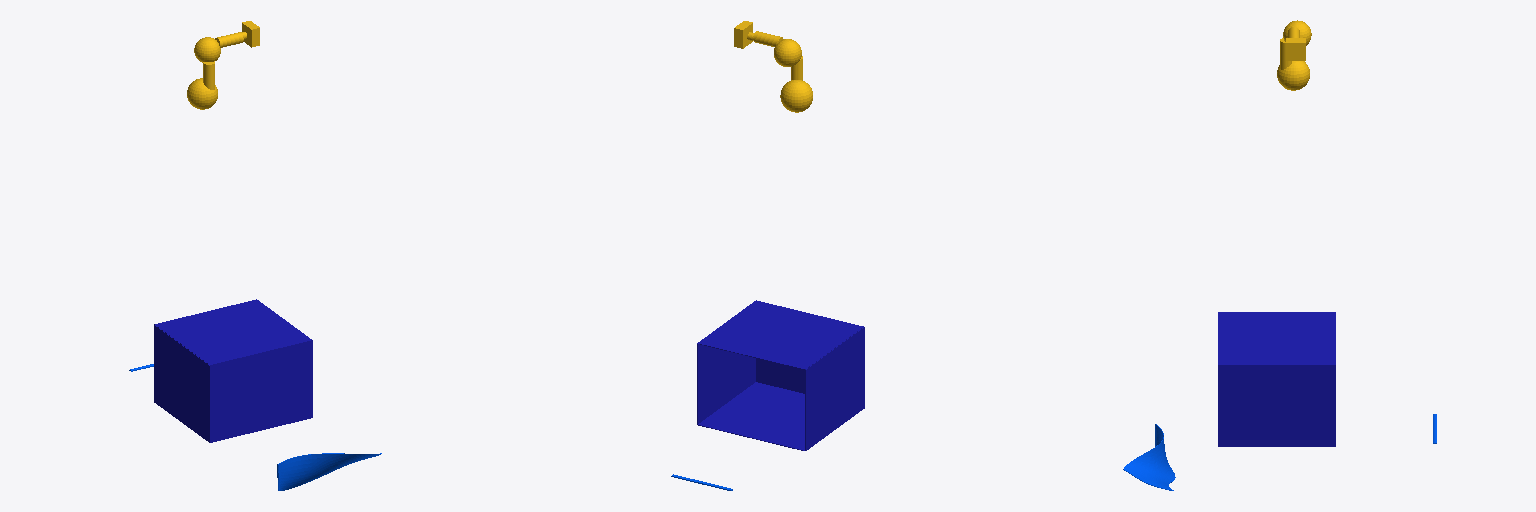
URDF robot description (fanuc_cell):
<?xml version="1.0" encoding="utf-8"?>
<!-- =================================================================================== -->
<!-- |    This document was autogenerated by xacro from ur5_robot.urdf.xacro           | -->
<!-- |    EDITING THIS FILE BY HAND IS NOT RECOMMENDED                                 | -->
<!-- =================================================================================== -->
<robot name="fanuc_cell">
  <!--robots pose-->
  <link name="world"/>
  
  <joint name="FANUC_m10ia_pose" type="fixed">
    <parent link="world"/>
    <child link="FANUC_m10ia_base_link"/>
    <origin rpy="0.0 0.0 0.0" xyz="0 0.0 5.0"/><!--ABB_1200_5_90 pedestal-->
  </joint>
  
  <joint name="FANUC_lrmate200id_pose" type="fixed">
    <parent link="world"/>
    <child link="FANUC_lrmate200id_base_link"/>
    <origin rpy="0.0 0.0 0.0" xyz="0 -5.0 5.0"/><!--ABB_1200_5_90 pedestal-->
  </joint>

  <joint name="curve_1_pose" type="fixed">
    <parent link="world"/>
    <child link="curve_1_base_link"/>
    <origin rpy="0.0 0.0 0.0" xyz="0 2.0 0.0"/><!--ABB_1200_5_90 pedestal-->
  </joint>
  <joint name="curve_2_pose" type="fixed">
    <parent link="world"/>
    <child link="curve_2_base_link"/>
    <origin rpy="0.0 0.0 0.0" xyz="0 -2.0 0.0"/><!--ABB_1200_5_90 pedestal-->
  </joint>


  <!--curve_1 part-->
  <link name="curve_1_base_link">
    <collision>
      <geometry>
        <mesh filename="model://curve_1/meshes/wood.stl" scale="0.001 0.001 0.001"/>
      </geometry>
    </collision>
    <visual name="visual">
      <geometry>
        <mesh filename="model://curve_1/meshes/wood.stl" scale="0.001 0.001 0.001"/>
      </geometry>
      <material name="orange">
        <color rgba=".04 .42 1 1"/>
      </material>
    </visual>
    <inertial>
      <origin rpy="0 0 0" xyz="0 0 .107 "/>
      <mass value="254.138"/>
      <inertia ixx="9.459" ixy="-.018" ixz="-.297" iyy="9.18" iyz=".003" izz="16.946"/>
    </inertial>
  </link>

  <!--curve_2 part-->
  <link name="curve_2_base_link">
    <collision>
      <geometry>
        <mesh filename="model://curve_2/meshes/generic_fan_blade.stl" scale="0.001 0.001 0.001"/>
      </geometry>
    </collision>
    <visual name="visual">
      <geometry>
        <mesh filename="model://curve_2/meshes/generic_fan_blade.stl" scale="0.001 0.001 0.001"/>
      </geometry>
      <material name="orange">
        <color rgba=".04 .42 1 1"/>
      </material>
    </visual>
    <inertial>
      <origin rpy="0 0 0" xyz="0 0 .107 "/>
      <mass value="254.138"/>
      <inertia ixx="9.459" ixy="-.018" ixz="-.297" iyy="9.18" iyz=".003" izz="16.946"/>
    </inertial>
  </link>

  <link name="Wall1">
    <visual>
      <geometry>
        <box size="0.01 1.7 1.3"/>
      </geometry>
      <material name="">
        <color rgba="0.1490196078431373 0.14901960784313725 0.72941176470588237 0.1"/>
      </material>
    </visual>
    <collision>
      <geometry>
        <box size="0.01 1.7 1.3"/>
      </geometry>
    </collision>
  </link>
  <joint name="Wall1_pose" type="fixed">
    <parent link="world"/>
    <child link="Wall1"/>
    <origin rpy="0.0 0.0 0" xyz="-0.405 -0.27 0.8"/>
  </joint>

  <link name="Wall2">
    <visual>
      <geometry>
        <box size="1.8 0.01 1.3"/>
      </geometry>
      <material name="">
        <color rgba="0.1490196078431373 0.14901960784313725 0.72941176470588237 0.1"/>
      </material>
    </visual>
    <collision>
      <geometry>
        <box size="1.8 0.01 1.3"/>
      </geometry>
    </collision>
  </link>
  <joint name="Wall2_pose" type="fixed">
    <parent link="world"/>
    <child link="Wall2"/>
    <origin rpy="0.0 0.0 0" xyz="0.5 -1.115 0.8"/>
  </joint>

  <link name="Wall3">
    <visual>
      <geometry>
        <box size="0.01 1.7 1.3"/>
      </geometry>
      <material name="">
        <color rgba="0.1490196078431373 0.14901960784313725 0.72941176470588237 0.1"/>
      </material>
    </visual>
    <collision>
      <geometry>
        <box size="0.01 1.7 1.3"/>
      </geometry>
    </collision>
  </link>
  <joint name="Wall3_pose" type="fixed">
    <parent link="world"/>
    <child link="Wall3"/>
    <origin rpy="0.0 0.0 0" xyz="1.405 -0.27 0.8"/>
  </joint>

  <!-- <link name="Wall4">
    <visual>
      <geometry>
        <box size="1.8 0.01 1.3"/>
      </geometry>
      <material name="">
        <color rgba="0.1490196078431373 0.14901960784313725 0.72941176470588237 0.1"/>
      </material>
    </visual>
    <collision>
      <geometry>
        <box size="1.8 0.01 1.3"/>
      </geometry>
    </collision>
  </link>
  <joint name="Wall4_pose" type="fixed">
    <parent link="world"/>
    <child link="Wall4"/>
    <origin rpy="0.0 0.0 0" xyz="0.5 0.585 0.8"/>
  </joint> -->

  <link name="Ground">
    <visual>
      <geometry>
        <box size="1.8 1.7 0.01"/>
      </geometry>
      <material name="">
        <color rgba="0.1490196078431373 0.14901960784313725 0.72941176470588237 0.1"/>
      </material>
    </visual>
    <collision>
      <geometry>
        <box size="1.8 1.7 0.01"/>
      </geometry>
    </collision>
  </link>
  <joint name="Ground_pose" type="fixed">
    <parent link="world"/>
    <child link="Ground"/>
    <origin rpy="0.0 0.0 0" xyz="0.5 -0.27 0.15"/>
  </joint>

  <link name="Ceiling">
    <visual>
      <geometry>
        <box size="1.8 1.7 0.01"/>
      </geometry>
      <material name="">
        <color rgba="0.1490196078431373 0.14901960784313725 0.72941176470588237 0.1"/>
      </material>
    </visual>
    <collision>
      <geometry>
        <box size="1.8 1.7 0.01"/>
      </geometry>
    </collision>
  </link>
  <joint name="Ceiling_pose" type="fixed">
    <parent link="world"/>
    <child link="Ceiling"/>
    <origin rpy="0.0 0.0 0" xyz="0.5 -0.27 1.45"/>
  </joint>

  <!-- FANUC m10ia part -->
  <link name="FANUC_m10ia_base_link">
    <visual>
      <origin rpy="0 0 0" xyz="0 0 0"/>
      <geometry>
        <mesh filename="model://FANUC_m10ia/meshes/m10ia/visual/base_link.stl"/>
      </geometry>
      <material name="">
        <color rgba="0.4 0.4 0.4 1.0"/>
      </material>
    </visual>
    <collision>
      <origin rpy="0 0 0" xyz="0 0 0"/>
      <geometry>
        <mesh filename="model://FANUC_m10ia/meshes/m10ia/collision/base_link.stl"/>
      </geometry>
    </collision>
  </link>
  <link name="FANUC_m10ia_link_1">
    <visual>
      <origin rpy="0 0 0" xyz="0.095 -0.035 0.01"/>
      <geometry>
        <!-- <mesh filename="model://FANUC_m10ia/meshes/m10ia/visual/link_1.stl"/> -->
        <sphere radius="0.24"/>
      </geometry>
      <material name="">
        <color rgba="0.96 0.76 0.13 1.0"/>
      </material>
    </visual>
    <collision>
      <origin rpy="0 0 0" xyz="0.095 -0.035 0.01"/>
      <geometry>
        <!-- <mesh filename="model://FANUC_m10ia/meshes/m10ia/visual/link_1.stl"/> -->
        <sphere radius="0.24"/>
      </geometry>
    </collision>
  </link>
  <link name="FANUC_m10ia_link_2">
    <visual>
      <origin rpy="0 0 0" xyz="0 -0.14 0.28"/>
      <geometry>
        <!-- <mesh filename="model://FANUC_m10ia/meshes/m10ia/visual/link_2.stl"/> -->
        <cylinder radius="0.09" length="0.58"/>
      </geometry>
      <material name="">
        <color rgba="0.96 0.76 0.13 1.0"/>
      </material>
    </visual>
    <collision>
      <origin rpy="0 0 0" xyz="0 -0.14 0.28"/>
      <geometry>
        <!-- <mesh filename="model://FANUC_m10ia/meshes/m10ia/collision/link_2.stl"/> -->
        <cylinder radius="0.09" length="0.58"/>
      </geometry>
    </collision>
  </link>
  <link name="FANUC_m10ia_link_3">
    <visual>
      <origin rpy="0 0 0" xyz="0.065 0.02 0.09"/>
      <geometry>
        <!-- <mesh filename="model://FANUC_m10ia/meshes/m10ia/visual/link_3.stl"/> -->
        <sphere radius="0.205"/>
      </geometry>
      <material name="">
        <color rgba="0.96 0.76 0.13 1.0"/>
      </material>
    </visual>
    <collision>
      <origin rpy="0 0 0" xyz="0 0 0"/>
      <geometry>
        <!-- <mesh filename="model://FANUC_m10ia/meshes/m10ia/collision/link_3.stl"/> -->
        <sphere radius="0.205"/>
      </geometry>
    </collision>
  </link>
  <link name="FANUC_m10ia_link_4">
    <visual>
      <origin rpy="0 1.57079632679 0" xyz="0.415 -0.03 0"/>
      <geometry>
        <!-- <mesh filename="model://FANUC_m10ia/meshes/m10ia/visual/link_4.stl"/> -->
        <cylinder radius="0.085" length="0.41"/>
      </geometry>
      <material name="">
        <color rgba="0.96 0.76 0.13 0.0"/> <!-- color not changing??? -->
      </material>
    </visual>
    <collision>
      <origin rpy="0 1.57079632679 0" xyz="0.415 -0.03 0"/>
      <geometry>
        <!-- <mesh filename="model://FANUC_m10ia/meshes/m10ia/collision/link_4.stl"/> -->
        <cylinder radius="0.085" length="0.41"/>
      </geometry>
    </collision>
  </link>
  <link name="FANUC_m10ia_link_5">
    <visual>
      <origin rpy="0 1.57079632679 0" xyz="0.0325 0 0"/>
      <geometry>
        <!-- <mesh filename="model://FANUC_m10ia/meshes/m10ia/visual/link_5.stl"/> -->
        <cylinder radius="0.06" length="0.09"/>
      </geometry>
      <material name="">
        <color rgba="0.96 0.76 0.13 1.0"/>
      </material>
    </visual>
    <collision>
      <origin rpy="0 1.57079632679 0" xyz="0.0325 0 0"/>
      <geometry>
        <!-- <mesh filename="model://FANUC_m10ia/meshes/m10ia/collision/link_5.stl"/> -->
        <cylinder radius="0.06" length="0.09"/>
      </geometry>
    </collision>
  </link>
  <link name="FANUC_m10ia_link_6">
    <visual>
      <origin rpy="0 0 0" xyz="0 0 0"/>
      <geometry>
        <mesh filename="model://FANUC_m10ia/meshes/m10ia/visual/link_6.stl"/>
      </geometry>
      <material name="">
        <color rgba="0.15 0.15 0.15 1.0"/>
      </material>
    </visual>
    <collision>
      <origin rpy="0 0 0" xyz="0 0 0"/>
      <geometry>
        <mesh filename="model://FANUC_m10ia/meshes/m10ia/collision/link_6.stl"/>
      </geometry>
    </collision>
  </link>
  <!-- <link name="FANUC_m10ia_tool">
    <visual name="visual">
      <origin rpy="0 0 0" xyz="0 0 0"/>
      <geometry>
        <mesh filename="model://paintgun/meshes/paint_gun.stl" scale="0.001 0.001 0.001"/>
      </geometry>
      <material name="">
        <color rgba="0.96 0.76 0.13 1.0"/>
      </material>
    </visual>
    <collision>
      <origin rpy="0 0 0" xyz="0 0 0"/>
      <geometry>
        <mesh filename="model://paintgun/meshes/paint_gun.stl" scale="0.001 0.001 0.001"/>
      </geometry>
    </collision>
  </link> -->
  <link name="FANUC_m10ia_dcstool">
    <visual name="visual">
      <origin rpy="0 0 0" xyz="0 0 0.075"/>
      <geometry>
        <!-- <mesh filename="model://paintgun/meshes/paint_gun.stl" scale="0.001 0.001 0.001"/> -->
        <box size="0.3 0.3 0.15"/>
      </geometry>
      <material name="">
        <color rgba="0.96 0.76 0.13 1.0"/>
      </material>
    </visual>
    <collision>
      <origin rpy="0 0 0" xyz="0 0 0.075"/>
      <geometry>
        <!-- <mesh filename="model://paintgun/meshes/paint_gun.stl" scale="0.001 0.001 0.001"/> -->
        <box size="0.3 0.3 0.15"/>
      </geometry>
    </collision>
  </link>

  <!-- joints: main serial chain -->
  <joint name="FANUC_m10ia_joint_1" type="revolute">
    <origin rpy="0 0 0" xyz="0 0 0.450"/>
    <parent link="FANUC_m10ia_base_link"/>
    <child link="FANUC_m10ia_link_1"/>
    <axis xyz="0 0 1"/>
    <limit effort="0" lower="-3.14" upper="3.14" velocity="3.67"/>
  </joint>
  <joint name="FANUC_m10ia_joint_2" type="revolute">
    <origin rpy="0 0 0" xyz="0.150 0 0"/>
    <parent link="FANUC_m10ia_link_1"/>
    <child link="FANUC_m10ia_link_2"/>
    <axis xyz="0 1 0"/>
    <limit effort="0" lower="-1.57" upper="2.79" velocity="3.32"/>
  </joint>
  <joint name="FANUC_m10ia_joint_3" type="revolute">
    <origin rpy="0 0 0" xyz="0 0 0.600"/>
    <parent link="FANUC_m10ia_link_2"/>
    <child link="FANUC_m10ia_link_3"/>
    <axis xyz="0 -1 0"/>
    <limit effort="0" lower="-3.14" upper="4.61" velocity="3.67"/>
  </joint>
  <joint name="FANUC_m10ia_joint_4" type="revolute">
    <origin rpy="0 0 0" xyz="0 0 0.200"/>
    <parent link="FANUC_m10ia_link_3"/>
    <child link="FANUC_m10ia_link_4"/>
    <axis xyz="-1 0 0"/>
    <limit effort="0" lower="-3.31" upper="3.31" velocity="6.98"/>
  </joint>
  <joint name="FANUC_m10ia_joint_5" type="revolute">
    <origin rpy="0 0 0" xyz="0.640 0 0"/>
    <parent link="FANUC_m10ia_link_4"/>
    <child link="FANUC_m10ia_link_5"/>
    <axis xyz="0 -1 0"/>
    <limit effort="0" lower="-3.31" upper="3.31" velocity="6.98"/>
  </joint>
  <joint name="FANUC_m10ia_joint_6" type="revolute">
    <origin rpy="0 0 0" xyz="0.100 0 0"/>
    <parent link="FANUC_m10ia_link_5"/>
    <child link="FANUC_m10ia_link_6"/>
    <axis xyz="-1 0 0"/>
    <limit effort="0" lower="-6.28" upper="6.28" velocity="10.47"/>
  </joint>
  <!-- <joint name="FANUC_m10ia_joint_6-tool0" type="fixed">
    <parent link="FANUC_m10ia_link_6"/>
    <child link="FANUC_m10ia_tool"/>
    <origin rpy="0 1.57079632679 0" xyz="0 0 0"/>
  </joint> -->
  <joint name="FANUC_m10ia_joint_6_dcs" type="fixed">
    <parent link="FANUC_m10ia_link_6"/>
    <child link="FANUC_m10ia_dcstool"/>
    <origin rpy="0 1.57079632679 0" xyz="0 0 0"/>
  </joint>

  <!-- FANUC lrmate200id part -->
  <link name="FANUC_lrmate200id_base_link">
    <visual>
      <origin rpy="0 0 0" xyz="0 0 0"/>
      <geometry>
        <mesh filename="model://FANUC_lrmate200id/meshes/lrmate200id/visual/base_link.stl"/>
      </geometry>
      <material name="">
        <color rgba="0.2784313725490196 0.2784313725490196 0.2784313725490196 1.0"/>
      </material>
    </visual>
    <collision>
      <origin rpy="0 0 0" xyz="0 0 0"/>
      <geometry>
        <mesh filename="model://FANUC_lrmate200id/meshes/lrmate200id/collision/base_link.stl"/>
      </geometry>
    </collision>
  </link>
  <link name="FANUC_lrmate200id_link_1">
    <visual>
      <origin rpy="0 0 0" xyz="0 0 0"/>
      <geometry>
        <mesh filename="model://FANUC_lrmate200id/meshes/lrmate200id/visual/link_1.stl"/>
      </geometry>
      <material name="">
        <color rgba="0.96 0.76 0.13 1.0"/>
      </material>
    </visual>
    <collision>
      <origin rpy="0 0 0" xyz="0 0 0"/>
      <geometry>
        <mesh filename="model://FANUC_lrmate200id/meshes/lrmate200id/collision/link_1.stl"/>
      </geometry>
    </collision>
  </link>
  <link name="FANUC_lrmate200id_link_2">
    <visual>
      <origin rpy="0 0 0" xyz="0 0 0"/>
      <geometry>
        <mesh filename="model://FANUC_lrmate200id/meshes/lrmate200id/visual/link_2.stl"/>
      </geometry>
      <material name="">
        <color rgba="0.96 0.76 0.13 1.0"/>
      </material>
    </visual>
    <collision>
      <origin rpy="0 0 0" xyz="0 0 0"/>
      <geometry>
        <mesh filename="model://FANUC_lrmate200id/meshes/lrmate200id/collision/link_2.stl"/>
      </geometry>
    </collision>
  </link>
  <link name="FANUC_lrmate200id_link_3">
    <visual>
      <origin rpy="0 0 0" xyz="0 0 0"/>
      <geometry>
        <mesh filename="model://FANUC_lrmate200id/meshes/lrmate200id/visual/link_3.stl"/>
      </geometry>
      <material name="">
        <color rgba="0.96 0.76 0.13 1.0"/>
      </material>
    </visual>
    <collision>
      <origin rpy="0 0 0" xyz="0 0 0"/>
      <geometry>
        <mesh filename="model://FANUC_lrmate200id/meshes/lrmate200id/collision/link_3.stl"/>
      </geometry>
    </collision>
  </link>
  <link name="FANUC_lrmate200id_link_4">
    <visual>
      <origin rpy="0 0 0" xyz="0 0 0"/>
      <geometry>
        <mesh filename="model://FANUC_lrmate200id/meshes/lrmate200id/visual/link_4.stl"/>
      </geometry>
      <material name="">
        <color rgba="0.96 0.76 0.13 1.0"/>
      </material>
    </visual>
    <collision>
      <origin rpy="0 0 0" xyz="0 0 0"/>
      <geometry>
        <mesh filename="model://FANUC_lrmate200id/meshes/lrmate200id/collision/link_4.stl"/>
      </geometry>
    </collision>
  </link>
  <link name="FANUC_lrmate200id_link_5">
    <visual>
      <origin rpy="0 0 0" xyz="0 0 0"/>
      <geometry>
        <mesh filename="model://FANUC_lrmate200id/meshes/lrmate200id/visual/link_5.stl"/>
      </geometry>
      <material name="">
        <color rgba="0.96 0.76 0.13 1.0"/>
      </material>
    </visual>
    <collision>
      <origin rpy="0 0 0" xyz="0 0 0"/>
      <geometry>
        <mesh filename="model://FANUC_lrmate200id/meshes/lrmate200id/collision/link_5.stl"/>
      </geometry>
    </collision>
  </link>
  <link name="FANUC_lrmate200id_link_6">
    <visual>
      <origin rpy="0 0 0" xyz="0 0 0"/>
      <geometry>
        <mesh filename="model://FANUC_lrmate200id/meshes/lrmate200id/visual/link_6.stl"/>
      </geometry>
      <material name="">
        <color rgba="0.15 0.15 0.15 1.0"/>
      </material>
    </visual>
    <collision>
      <origin rpy="0 0 0" xyz="0 0 0"/>
      <geometry>
        <mesh filename="model://FANUC_lrmate200id/meshes/lrmate200id/collision/link_6.stl"/>
      </geometry>
    </collision>
  </link>
  <!-- joints: main serial chain -->
  <joint name="FANUC_lrmate200id_joint_1" type="revolute">
    <origin rpy="0 0 0" xyz="0 0 0.330"/>
    <parent link="FANUC_lrmate200id_base_link"/>
    <child link="FANUC_lrmate200id_link_1"/>
    <axis xyz="0 0 1"/>
    <limit effort="0" lower="-2.9670597283903604" upper="2.9670597283903604" velocity="7.853981633974483"/>
  </joint>
  <joint name="FANUC_lrmate200id_joint_2" type="revolute">
    <origin rpy="0 0 0" xyz="0.050 0 0"/>
    <parent link="FANUC_lrmate200id_link_1"/>
    <child link="FANUC_lrmate200id_link_2"/>
    <axis xyz="0 1 0"/>
    <limit effort="0" lower="-1.7453292519943295" upper="2.530727415391778" velocity="6.632251157578453"/>
  </joint>
  <joint name="FANUC_lrmate200id_joint_3" type="revolute">
    <origin rpy="0 0 0" xyz="0 0 0.330"/>
    <parent link="FANUC_lrmate200id_link_2"/>
    <child link="FANUC_lrmate200id_link_3"/>
    <axis xyz="0 -1 0"/>
    <limit effort="0" lower="-1.2217304763960306" upper="3.5779249665883754" velocity="9.075712110370514"/>
  </joint>
  <joint name="FANUC_lrmate200id_joint_4" type="revolute">
    <origin rpy="0 0 0" xyz="0 0 0.035"/>
    <parent link="FANUC_lrmate200id_link_3"/>
    <child link="FANUC_lrmate200id_link_4"/>
    <axis xyz="-1 0 0"/>
    <limit effort="0" lower="-3.3161255787892263" upper="3.3161255787892263" velocity="9.599310885968812"/>
  </joint>
  <joint name="FANUC_lrmate200id_joint_5" type="revolute">
    <origin rpy="0 0 0" xyz="0.335 0 0"/>
    <parent link="FANUC_lrmate200id_link_4"/>
    <child link="FANUC_lrmate200id_link_5"/>
    <axis xyz="0 -1 0"/>
    <limit effort="0" lower="-2.181661564992912" upper="2.181661564992912" velocity="9.512044423369096"/>
  </joint>
  <joint name="FANUC_lrmate200id_joint_6" type="revolute">
    <origin rpy="0 0 0" xyz="0.080 0 0"/>
    <parent link="FANUC_lrmate200id_link_5"/>
    <child link="FANUC_lrmate200id_link_6"/>
    <axis xyz="-1 0 0"/>
    <limit effort="0" lower="-6.283185307179586" upper="6.283185307179586" velocity="17.453292519943297"/>
  </joint>


</robot>

--- Render facts (derived) ---
Views: 3 orthographic renders of the robot side by side, from view 1: azimuth 30°, elevation 25°; view 2: azimuth 150°, elevation 25°; view 3: azimuth 270°, elevation 25°.
Model fanuc_cell with 23 links and 22 joints (12 revolute, 10 fixed), rooted at world, posed every joint at zero.
Links seen in each view (by area): view 1: Wall2, Ceiling, Wall1, curve_2_base_link, FANUC_m10ia_link_1, FANUC_m10ia_link_3; view 2: Ceiling, Wall1, Ground, Wall3, Wall2, FANUC_m10ia_link_1, FANUC_m10ia_link_3; view 3: Wall3, Ceiling, curve_2_base_link, FANUC_m10ia_link_1.
Link boxes in pixels (bbox=[...]): Wall2: bbox=[210, 341, 311, 441]; Ceiling: bbox=[154, 299, 311, 365]; Wall1: bbox=[154, 325, 209, 442]; curve_2_base_link: bbox=[277, 453, 381, 490]; FANUC_m10ia_link_1: bbox=[187, 78, 217, 109]; FANUC_m10ia_link_3: bbox=[194, 37, 220, 62]; Ceiling: bbox=[698, 300, 863, 369]; Wall1: bbox=[805, 327, 864, 450]; Ground: bbox=[698, 382, 804, 450]; Wall3: bbox=[697, 301, 755, 424]; Wall2: bbox=[756, 358, 804, 393]; FANUC_m10ia_link_1: bbox=[780, 80, 812, 112]; FANUC_m10ia_link_3: bbox=[774, 39, 801, 66]; Wall3: bbox=[1218, 365, 1335, 446]; Ceiling: bbox=[1218, 312, 1335, 364]; curve_2_base_link: bbox=[1123, 424, 1175, 490]; FANUC_m10ia_link_1: bbox=[1277, 61, 1309, 90].
Bounding box of the posed robot: 2.31 × 4.52 × 7.01 m (x, y, z).
2 mesh visuals loaded from 11 distinct referenced files (2 binary STL); not drawn: 9 (reference not matched to a file when rendering).